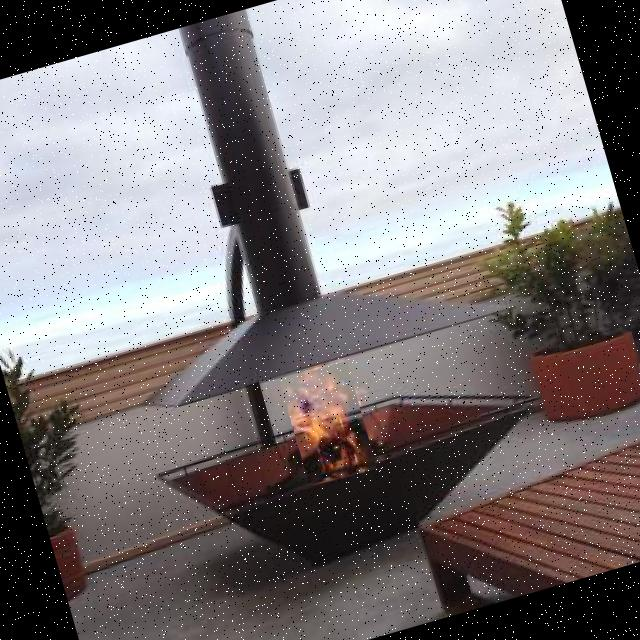fire: (279, 360, 377, 488)
